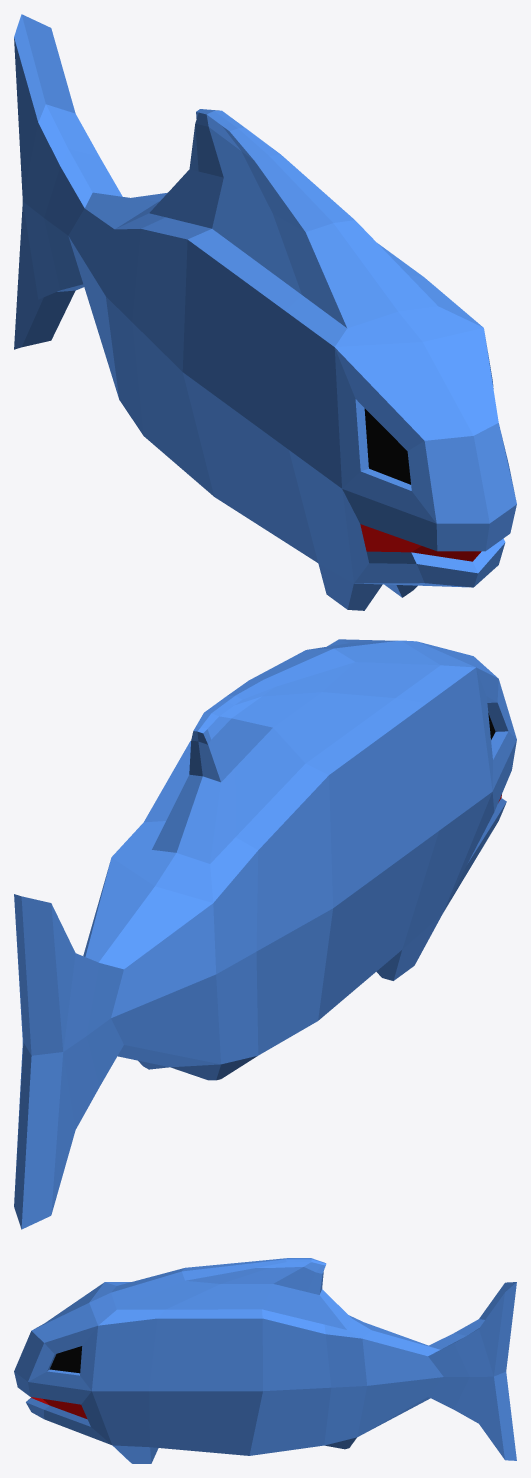
The model's file is pescao.fbx.
3 renders of one model, top to bottom at view 1: azimuth 30°, elevation 25°; view 2: azimuth 150°, elevation 25°; view 3: azimuth 270°, elevation 25°, orthographic. The views are drawn at different scales.
Parts seen in each view (by area): view 1: Cube; view 2: Cube; view 3: Cube.
Boxes of the visible parts, x1,y1,x2,y2 form: Cube: [14, 14, 516, 610]; Cube: [14, 639, 516, 1229]; Cube: [14, 1258, 516, 1463].
Size of the model in its own units: 118 by 282 by 637.
